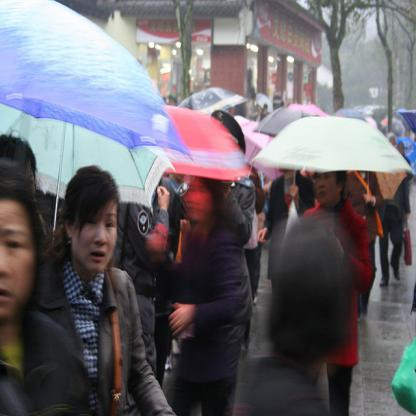handbag: (109, 306, 122, 416), (403, 229, 413, 267)
